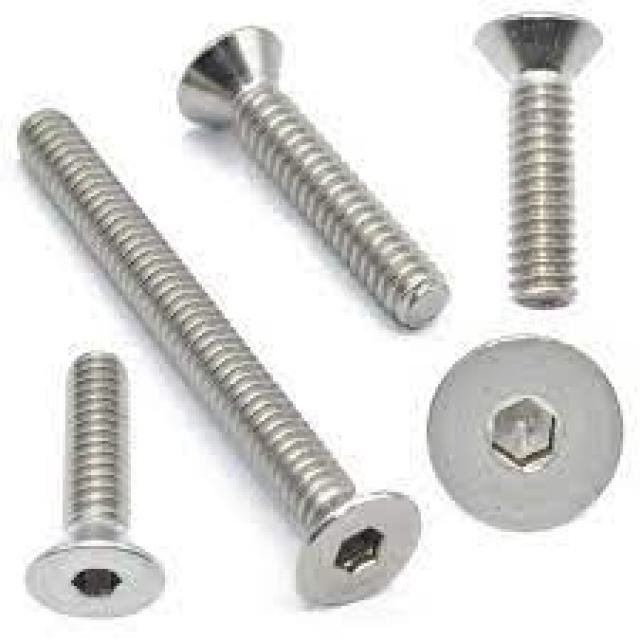Screw: (14, 108, 415, 609), (176, 26, 455, 330), (427, 336, 626, 535), (472, 11, 603, 313), (26, 353, 165, 620)
